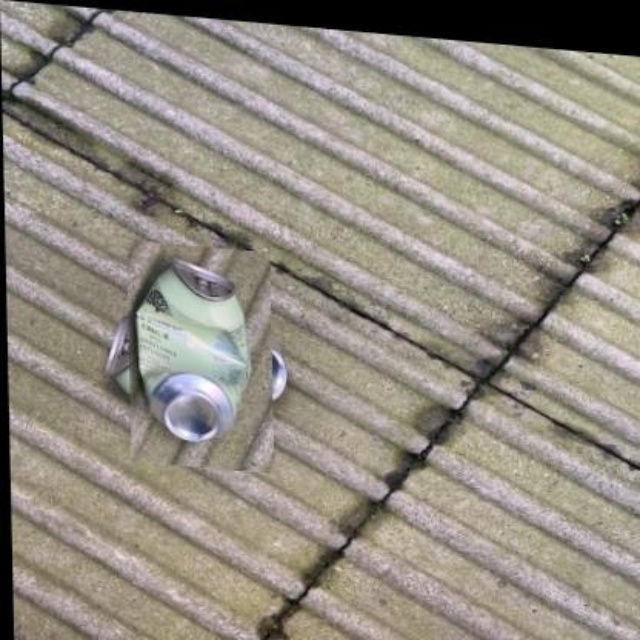trash: (105, 257, 249, 442), (106, 258, 248, 442)
